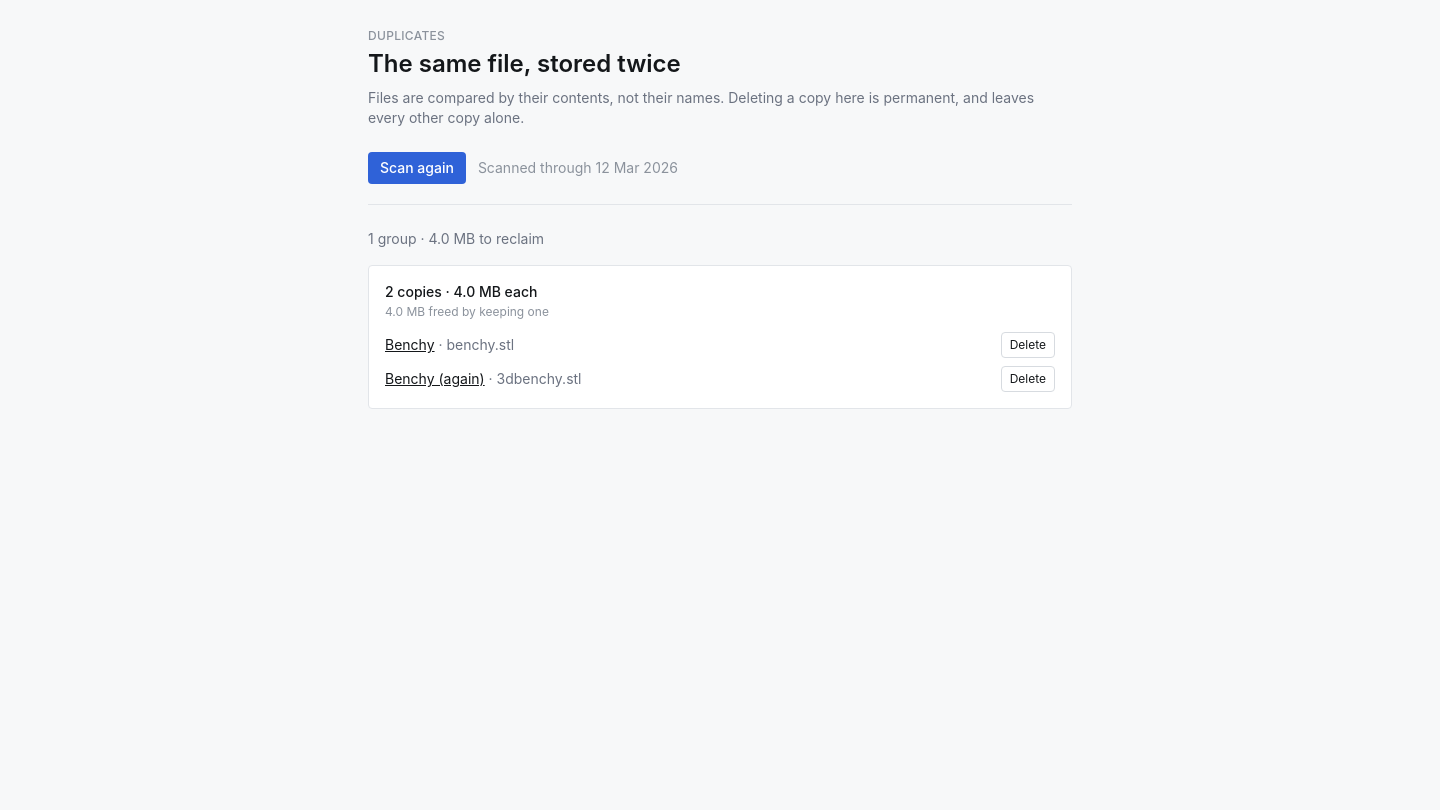
it: duplicates page › keeps the dialog open and shows the server’s words when a delete fails
Expected: the link "Benchy" is shown, x1=385 y1=336 x2=434 y2=353
Click the button "Delete" in the row of "· benchy.stl" at (1028, 345), box x1=1001 y1=332 x2=1055 y2=358
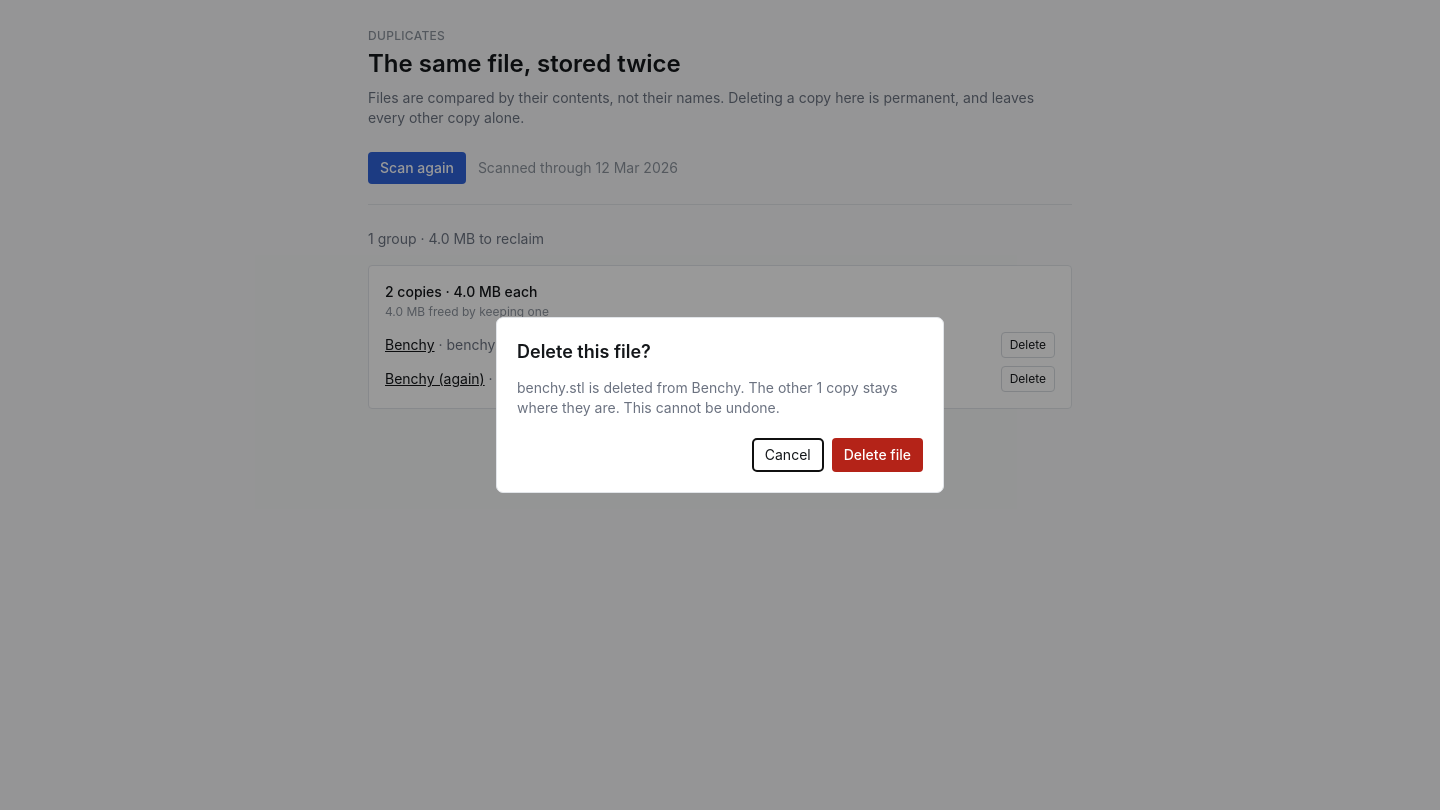
Click the button "Delete file" at (877, 455), box x1=832 y1=438 x2=923 y2=472
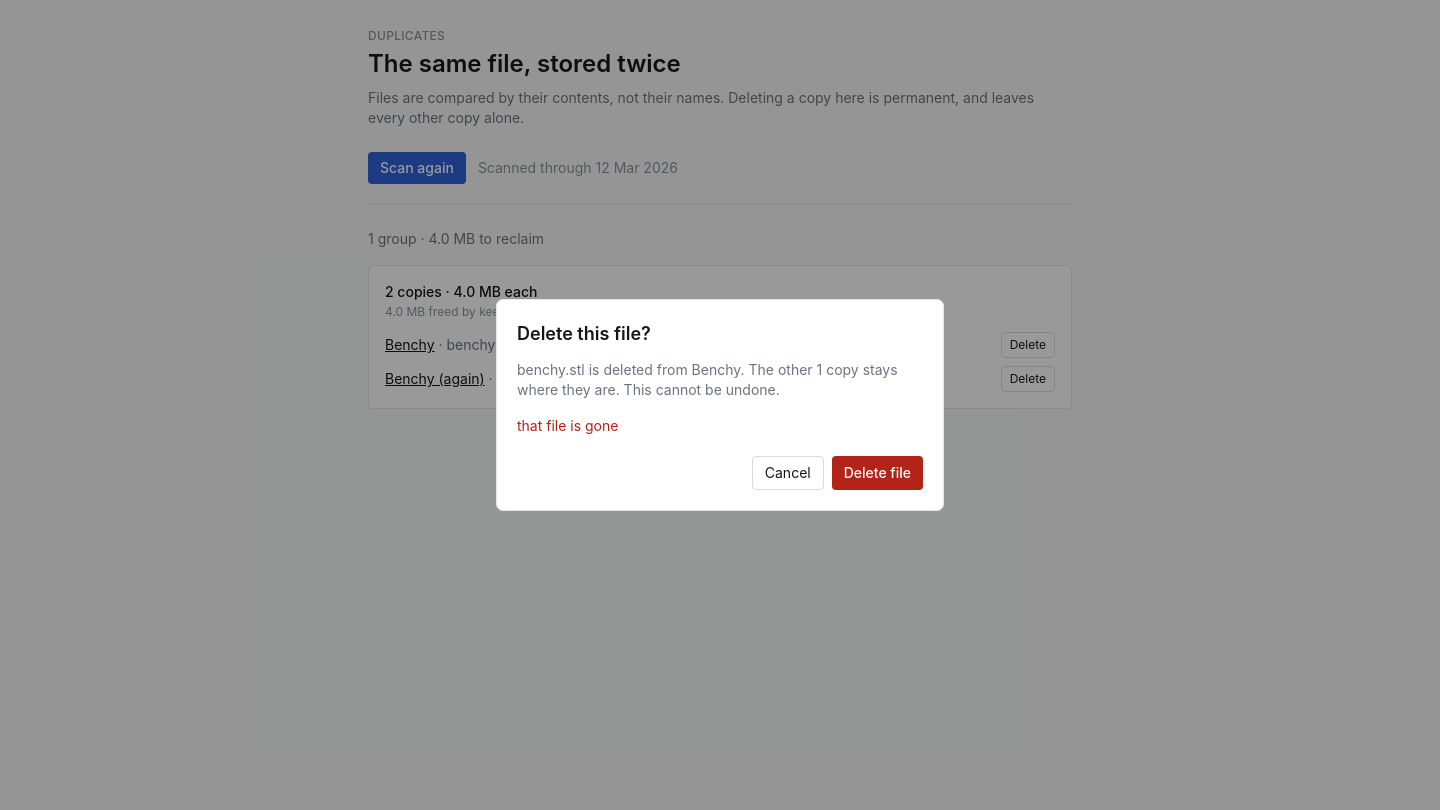
Result: the dialog is shown at x1=496 y1=299 x2=944 y2=511
Result: the text "that file is gone" is shown at x1=517 y1=417 x2=618 y2=434
